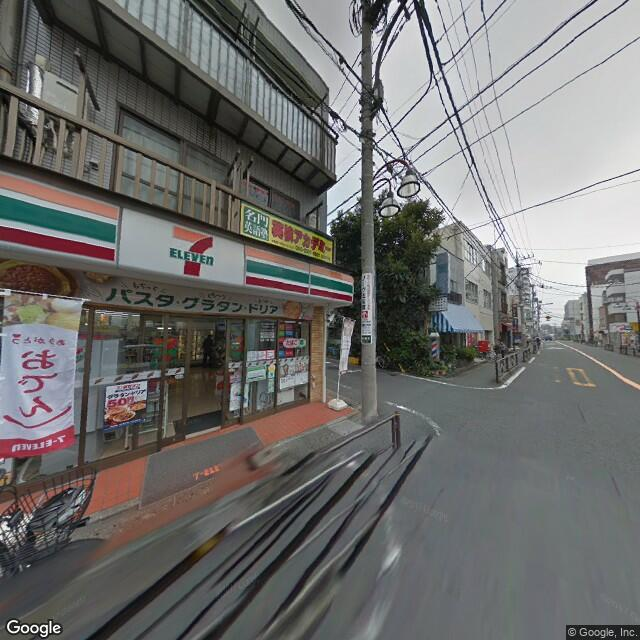7-eleven: (1, 165, 354, 306)
